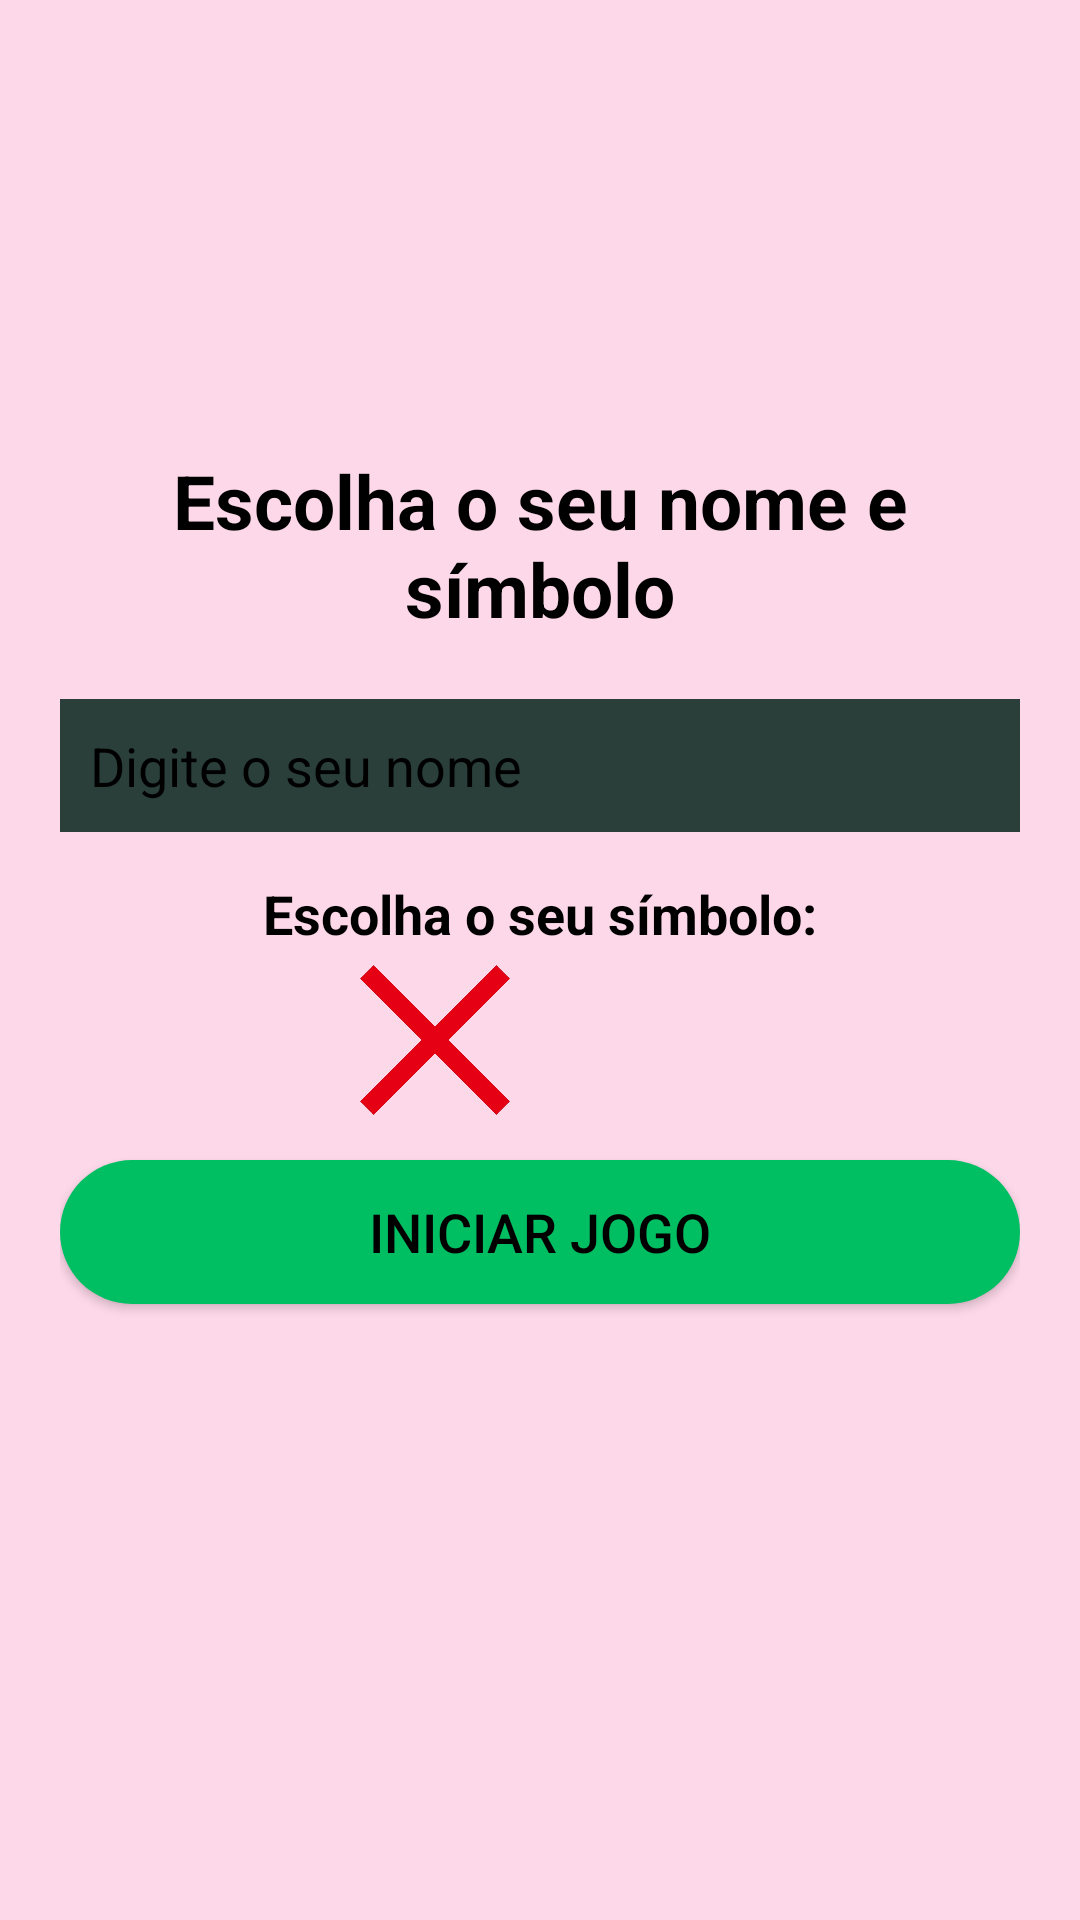

Point at icon controls on the screen. Image size 1080x1920, points as (x,y).
cruz: (435,1040)
